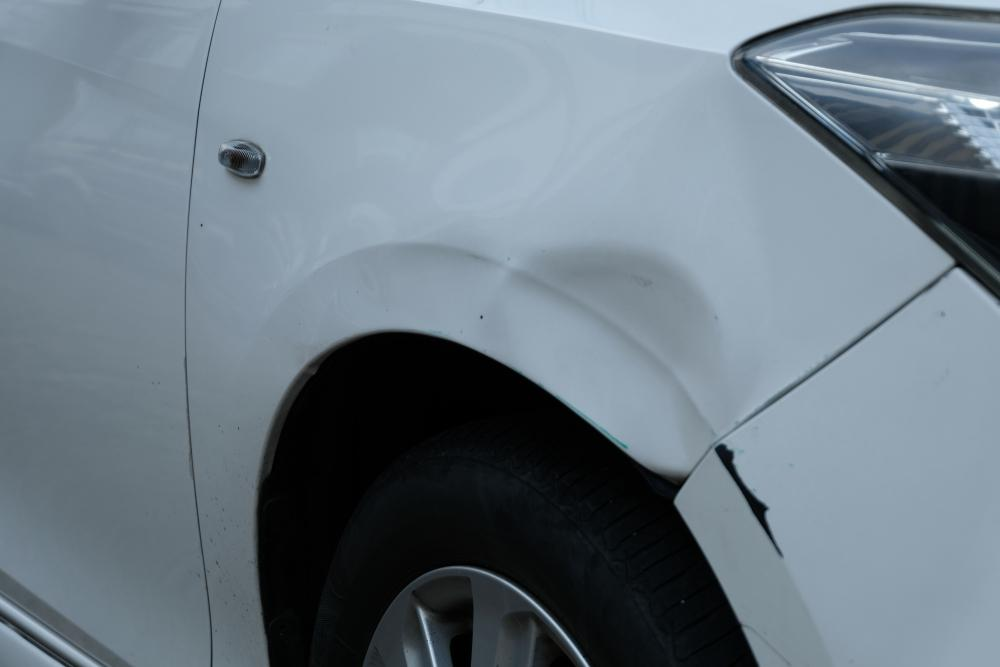dent: (387, 238, 737, 469)
scratch: (709, 441, 788, 562)
